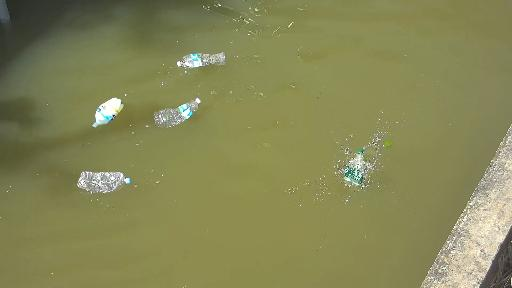leaf: (374, 133, 400, 152)
plastic: (159, 37, 235, 78), (148, 82, 204, 133), (64, 163, 147, 195), (333, 144, 373, 196), (82, 92, 131, 128)
